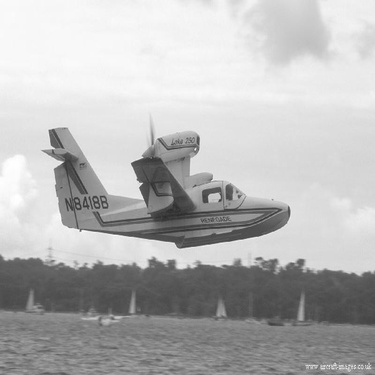airplane: (15, 103, 304, 263)
